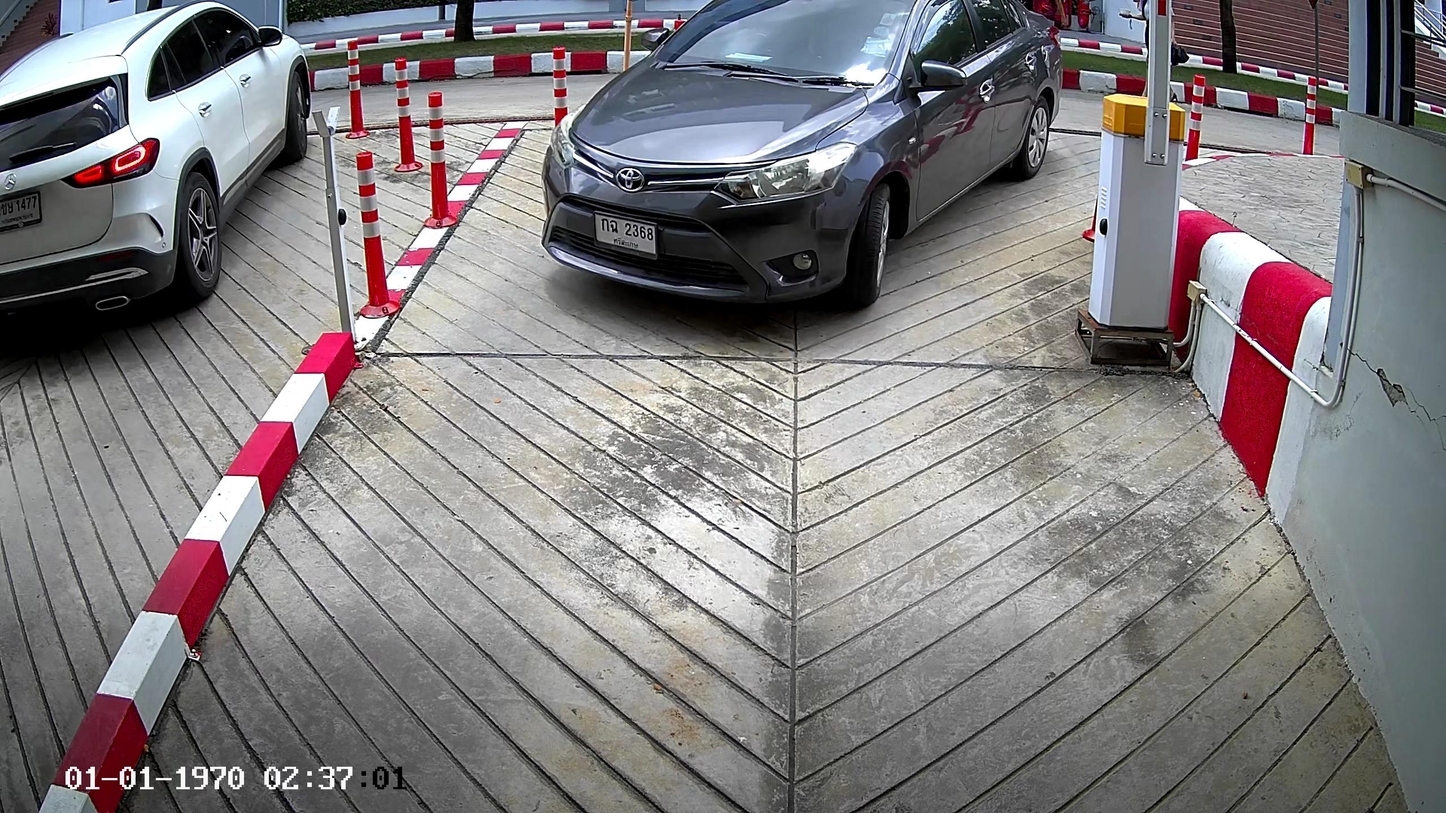car: (540, 3, 1059, 318)
license-plate: (593, 207, 660, 261)
